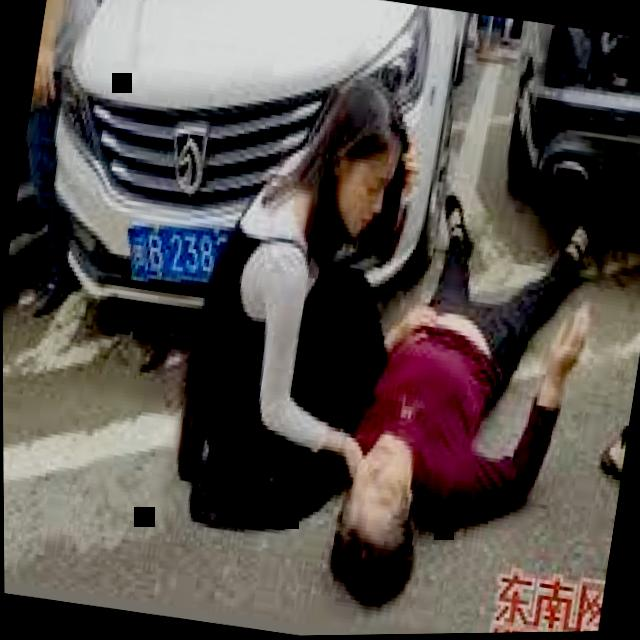Fall-Detected: (293, 149, 622, 618)
